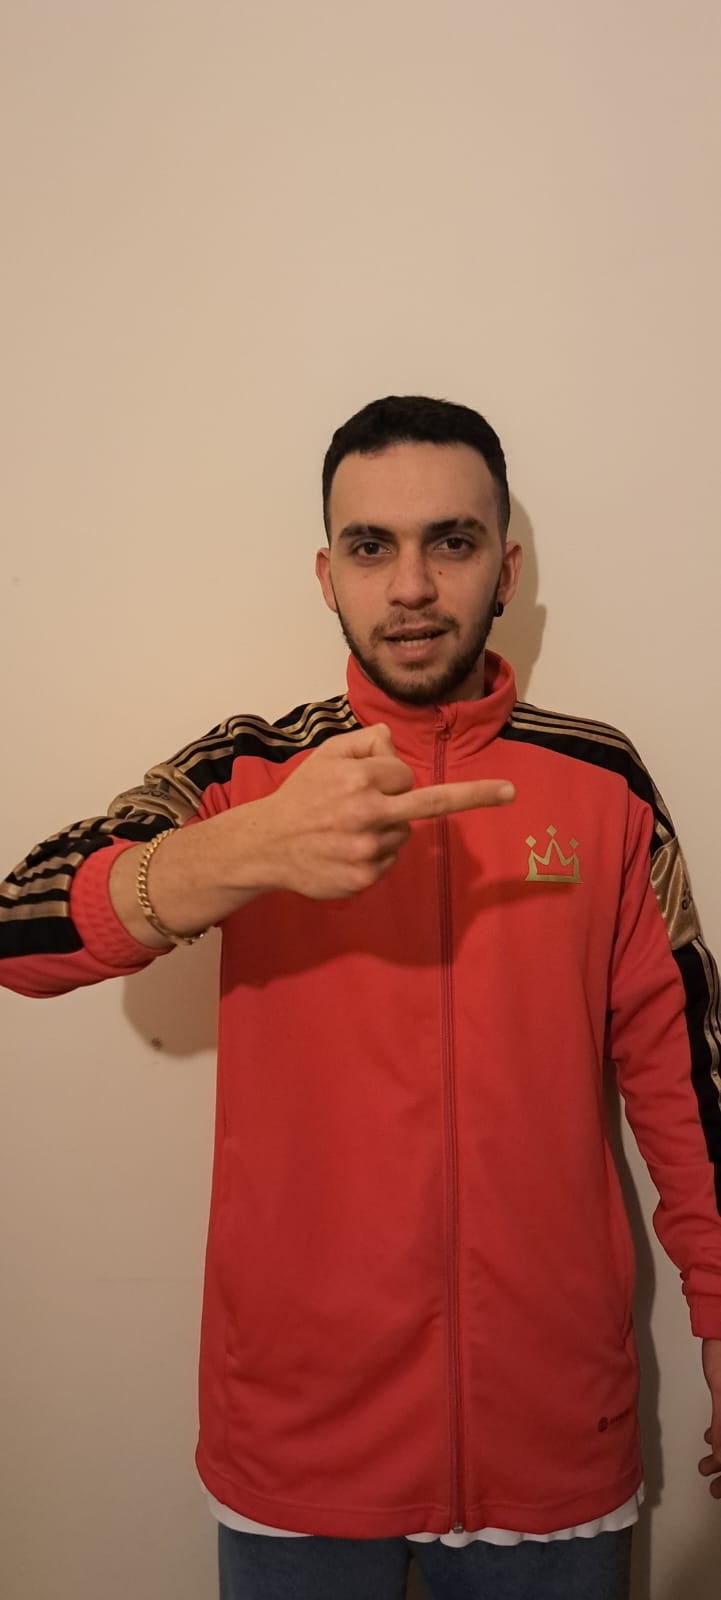fck: (247, 719, 518, 910)
